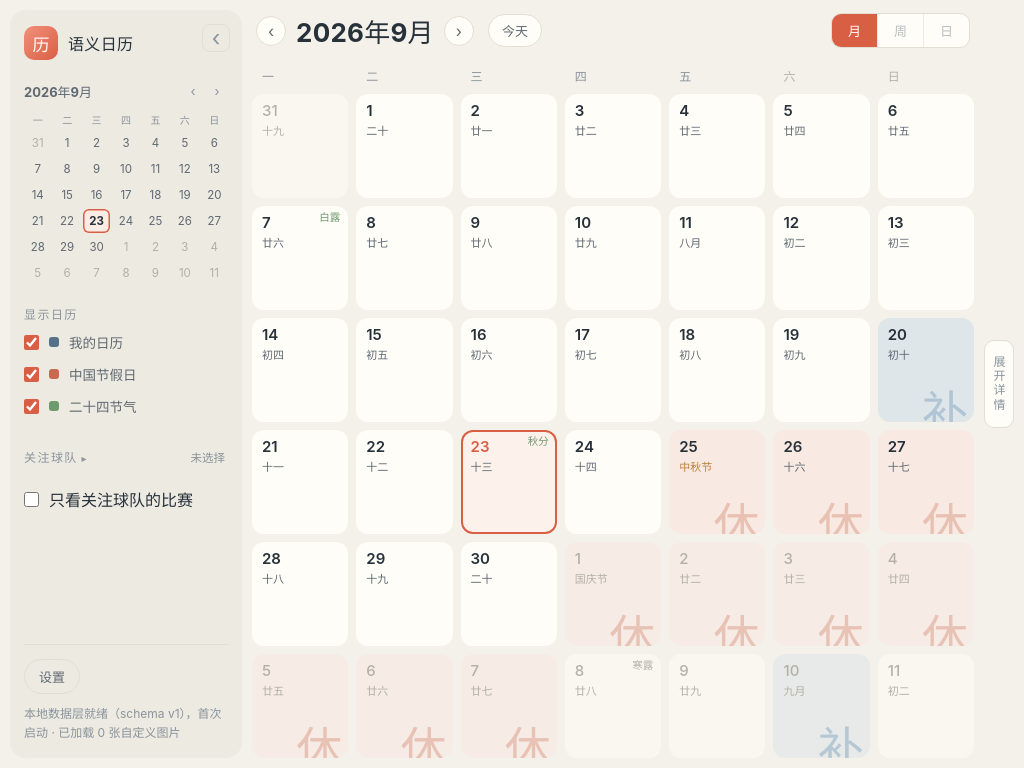
Test: 窗口行为（SC-002） › 默认隐藏到托盘，并在启动时推给桌面壳
The width and height of the screenshot is (1024, 768).
Expected: the text "本地数据层就绪（schema v1），首次启动 · 已加载 0 张自定义图片" is shown, [24, 704, 228, 742]
Click the button "设置".
click(52, 676)  # box [24, 659, 80, 694]
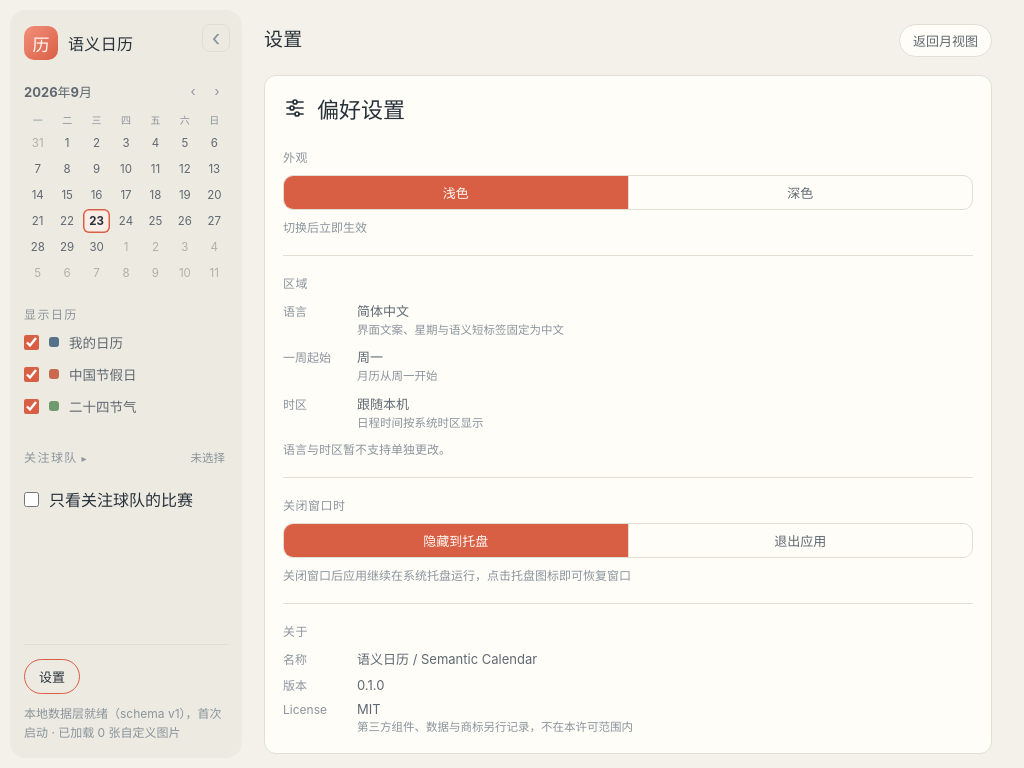
Result: the text "关闭窗口后应用继续在系统托盘运行，点击托盘图标即可恢复窗口" is shown at [283, 568, 631, 583]
